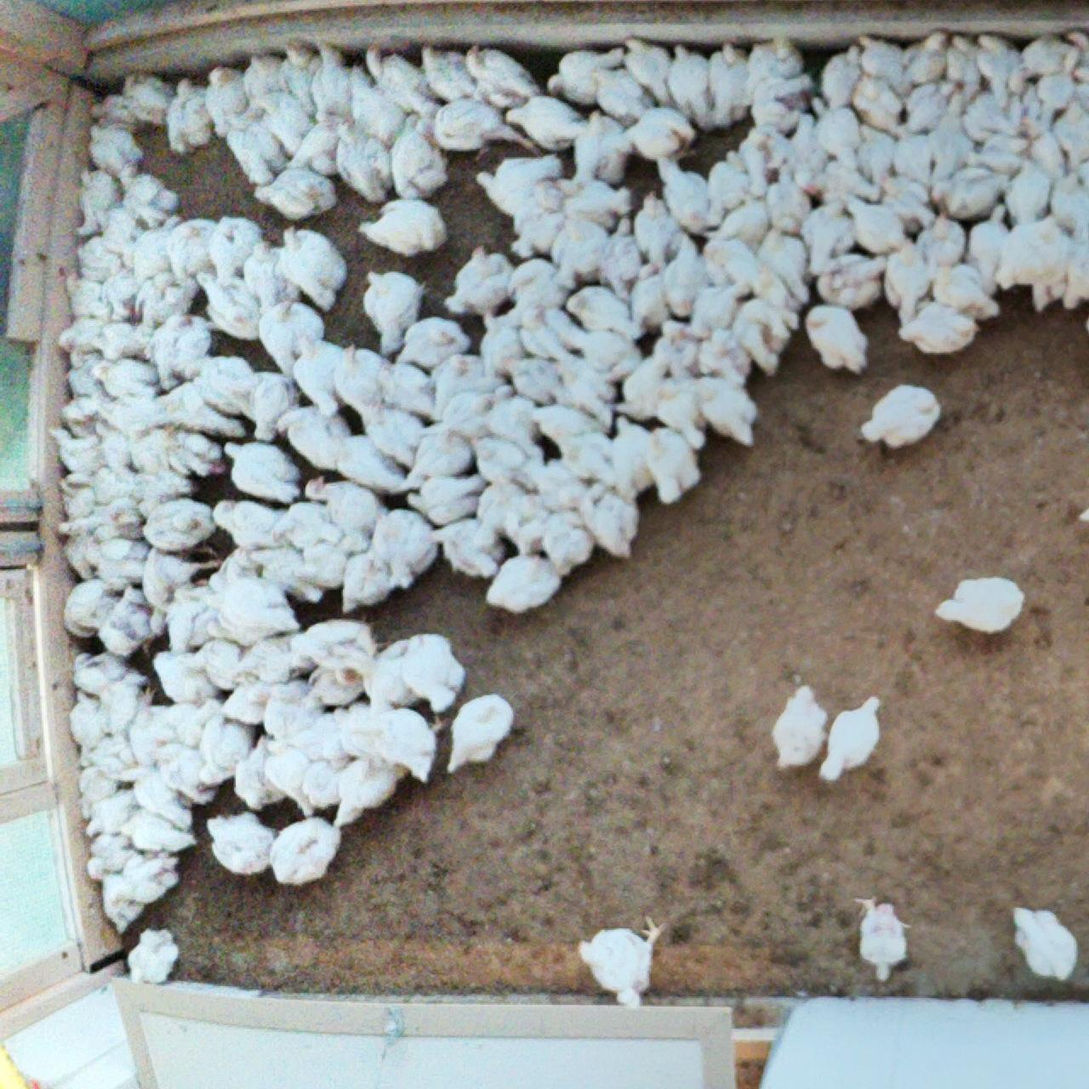chicken: (334, 702, 447, 786), (579, 914, 667, 1007), (210, 574, 303, 647), (434, 100, 543, 160), (366, 40, 441, 121), (277, 226, 347, 311), (476, 152, 563, 220), (362, 270, 430, 356), (332, 755, 407, 829), (447, 693, 515, 774), (143, 546, 225, 613), (342, 640, 418, 712), (996, 217, 1063, 298), (817, 696, 880, 781), (860, 384, 941, 450), (392, 423, 471, 490), (157, 381, 245, 441), (401, 632, 465, 714), (262, 738, 326, 820), (466, 44, 544, 111), (934, 577, 1024, 635), (355, 199, 448, 255), (734, 298, 799, 378), (371, 509, 436, 589), (145, 313, 211, 391), (345, 65, 407, 148), (259, 301, 324, 379), (268, 817, 342, 885), (482, 553, 561, 616), (428, 354, 505, 418), (442, 246, 511, 316), (277, 407, 351, 472), (853, 897, 909, 982), (773, 686, 829, 771), (391, 114, 447, 199), (580, 481, 638, 563), (335, 123, 392, 206), (795, 158, 881, 213), (224, 442, 299, 505), (525, 456, 606, 514), (206, 810, 277, 876), (427, 518, 505, 578), (337, 434, 409, 499), (252, 168, 337, 223), (505, 94, 587, 151), (1013, 907, 1077, 980), (163, 581, 226, 655), (305, 476, 382, 536), (243, 241, 300, 322), (292, 334, 348, 416), (803, 304, 868, 373), (548, 48, 624, 107), (563, 285, 646, 339), (290, 619, 377, 670), (572, 111, 631, 186), (237, 630, 312, 689), (618, 107, 697, 163), (134, 272, 197, 342), (898, 301, 981, 354), (930, 164, 1008, 220), (653, 364, 705, 448), (359, 406, 425, 472), (647, 426, 702, 505), (180, 638, 259, 693), (698, 378, 759, 449), (239, 371, 300, 442), (666, 44, 714, 134), (738, 123, 794, 200), (744, 34, 803, 107), (632, 191, 682, 276), (800, 199, 855, 276), (226, 114, 284, 187), (505, 259, 568, 326), (657, 157, 709, 238), (152, 645, 222, 705), (332, 345, 386, 422), (213, 499, 288, 554), (612, 416, 658, 505), (510, 181, 562, 259), (251, 548, 323, 604), (487, 385, 546, 453), (818, 254, 888, 311), (200, 715, 256, 786), (186, 355, 251, 416), (555, 363, 614, 430), (132, 687, 179, 771), (550, 220, 607, 288), (396, 317, 472, 368), (143, 499, 216, 552), (98, 584, 151, 657), (554, 178, 631, 228), (406, 476, 483, 526), (235, 738, 287, 812), (532, 405, 612, 453), (934, 264, 999, 323), (252, 94, 311, 159), (1008, 36, 1079, 90), (884, 239, 930, 322), (443, 386, 516, 438), (262, 680, 324, 741), (201, 276, 260, 340), (844, 195, 908, 254), (811, 96, 862, 170), (168, 218, 217, 295), (710, 41, 753, 128), (662, 230, 705, 317), (209, 216, 263, 285), (476, 476, 534, 540), (110, 852, 180, 905), (760, 230, 809, 305), (294, 539, 369, 588), (594, 66, 656, 125), (156, 745, 215, 807), (684, 282, 748, 339), (98, 670, 155, 734), (573, 330, 641, 383), (519, 306, 582, 363), (294, 710, 351, 773), (495, 430, 548, 497), (85, 123, 141, 186), (74, 168, 123, 240), (342, 550, 398, 613), (1033, 238, 1080, 313), (168, 77, 212, 157), (969, 206, 1009, 294), (271, 502, 344, 550), (617, 356, 670, 422), (543, 510, 594, 578), (81, 738, 149, 789), (205, 64, 250, 141), (208, 546, 271, 601), (628, 259, 674, 334), (933, 92, 973, 178), (624, 38, 673, 108), (699, 239, 756, 299), (751, 77, 812, 133), (765, 168, 814, 237), (285, 120, 345, 176), (309, 43, 352, 120), (883, 175, 938, 235), (378, 359, 433, 419), (134, 214, 182, 282), (102, 392, 167, 442), (155, 699, 220, 749), (121, 173, 178, 230), (421, 45, 476, 104), (653, 320, 708, 379), (708, 201, 769, 254), (501, 355, 563, 407), (708, 150, 748, 230), (602, 218, 640, 302), (120, 812, 197, 853), (137, 773, 192, 830), (470, 432, 525, 489), (789, 115, 828, 195), (750, 265, 798, 330), (304, 662, 369, 710), (852, 75, 903, 136), (696, 328, 750, 385), (127, 927, 178, 987), (58, 519, 105, 584), (977, 32, 1021, 101), (480, 312, 526, 378), (280, 43, 321, 117), (558, 437, 616, 489), (64, 579, 114, 639), (1006, 159, 1052, 223), (161, 431, 225, 477), (220, 675, 274, 728), (902, 82, 957, 134), (91, 359, 157, 402), (964, 94, 1020, 144), (93, 316, 152, 363), (123, 71, 174, 125), (95, 544, 150, 594), (136, 471, 197, 516), (966, 134, 1029, 177), (48, 428, 103, 477), (821, 44, 862, 109), (100, 874, 145, 933), (87, 833, 142, 881), (92, 422, 140, 476), (96, 512, 150, 560), (102, 207, 143, 270), (505, 505, 550, 562), (85, 791, 138, 839), (73, 651, 128, 697), (854, 123, 893, 187), (1013, 86, 1059, 140), (1054, 100, 1089, 169), (128, 424, 174, 476), (304, 759, 349, 811), (1051, 174, 1089, 235), (66, 274, 111, 325), (859, 35, 903, 87), (58, 317, 102, 369), (245, 54, 284, 112), (891, 133, 932, 188), (68, 691, 106, 750), (904, 31, 946, 84), (77, 237, 123, 284), (56, 473, 104, 518), (1036, 76, 1076, 128), (93, 466, 143, 506), (944, 34, 981, 88), (1029, 134, 1068, 185), (102, 274, 142, 323), (64, 356, 106, 402), (80, 767, 117, 818), (60, 396, 103, 439), (1065, 237, 1089, 311), (88, 94, 140, 128), (129, 602, 171, 643), (1066, 31, 1089, 66), (1073, 66, 1089, 113), (1078, 506, 1089, 524)
